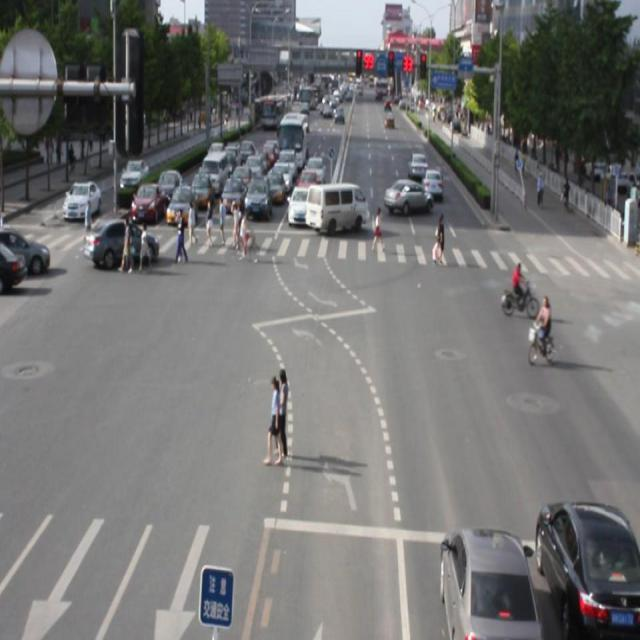car: (534, 498, 640, 640), (436, 527, 537, 640), (85, 216, 160, 268)
